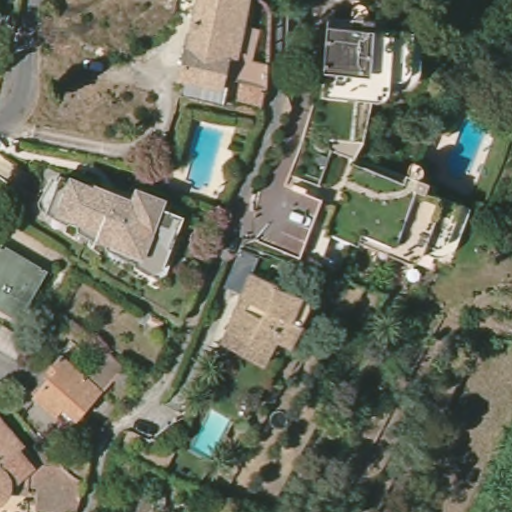pool: (443, 113, 484, 187), (184, 124, 226, 189), (188, 405, 229, 457)
